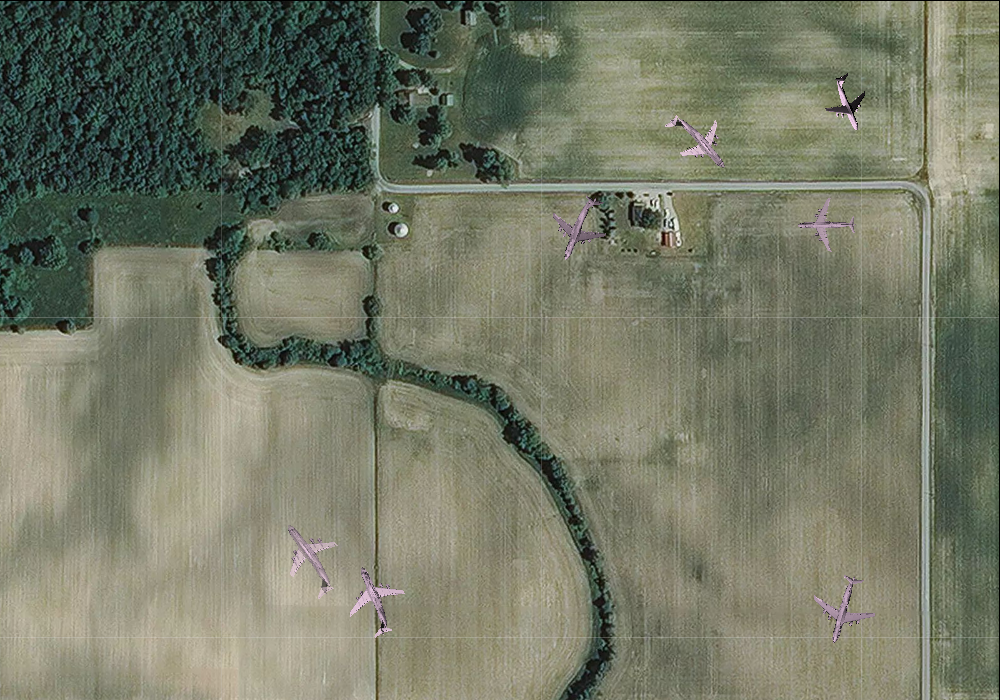plane: (256, 506, 360, 613), (650, 94, 745, 190), (328, 555, 418, 647), (537, 184, 622, 271), (803, 567, 885, 652), (813, 65, 883, 139), (797, 197, 856, 252)
